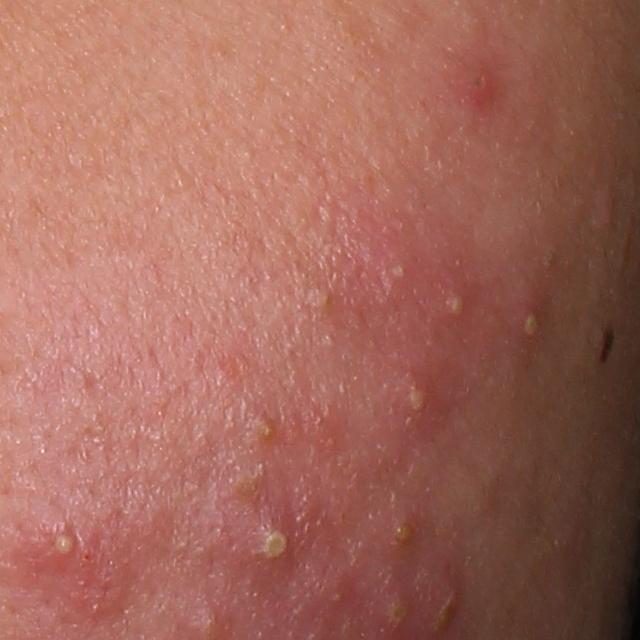nevus: (597, 325, 617, 367)
papule: (445, 56, 502, 110), (306, 566, 358, 618)
pustule: (373, 362, 439, 433), (250, 513, 305, 574), (371, 583, 419, 637), (371, 246, 418, 297), (377, 513, 422, 560), (435, 280, 473, 319), (516, 303, 544, 344)
